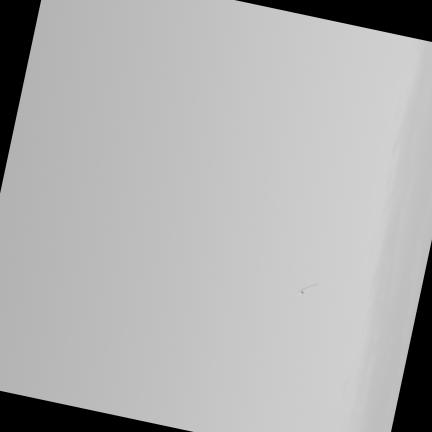Shahed: (289, 283, 318, 297)
